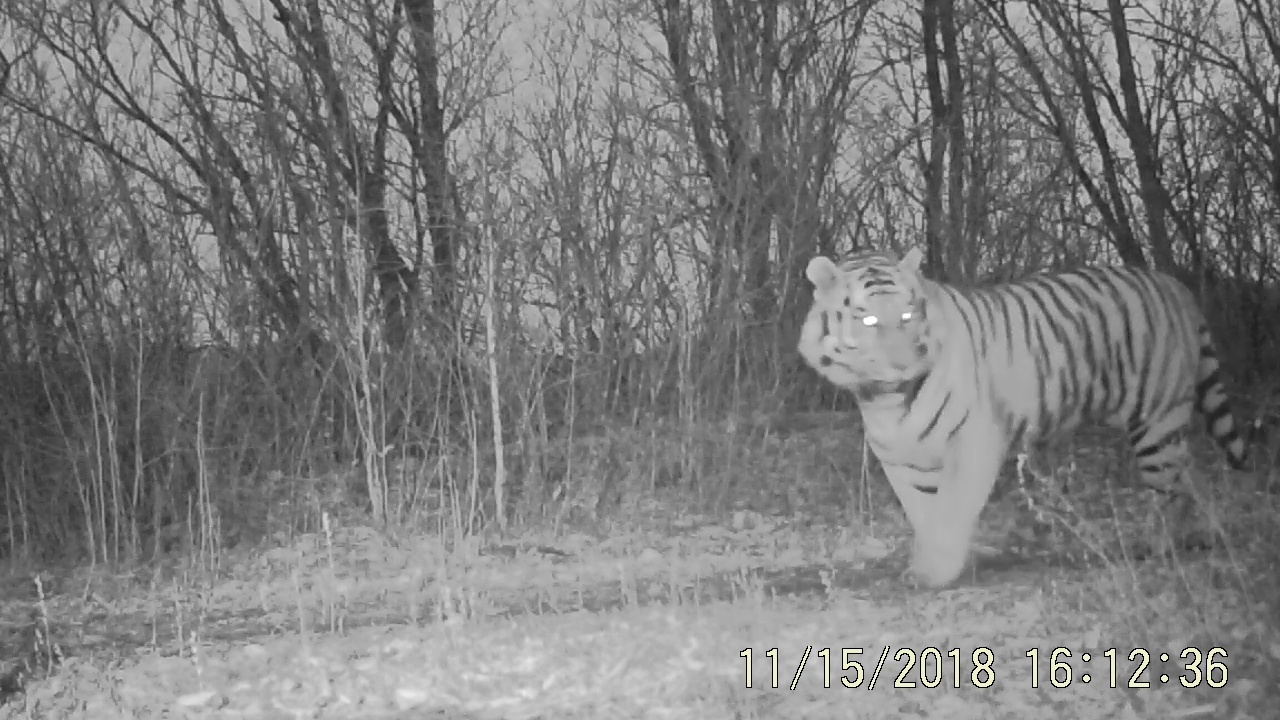Tiger: (788, 231, 1280, 614)
